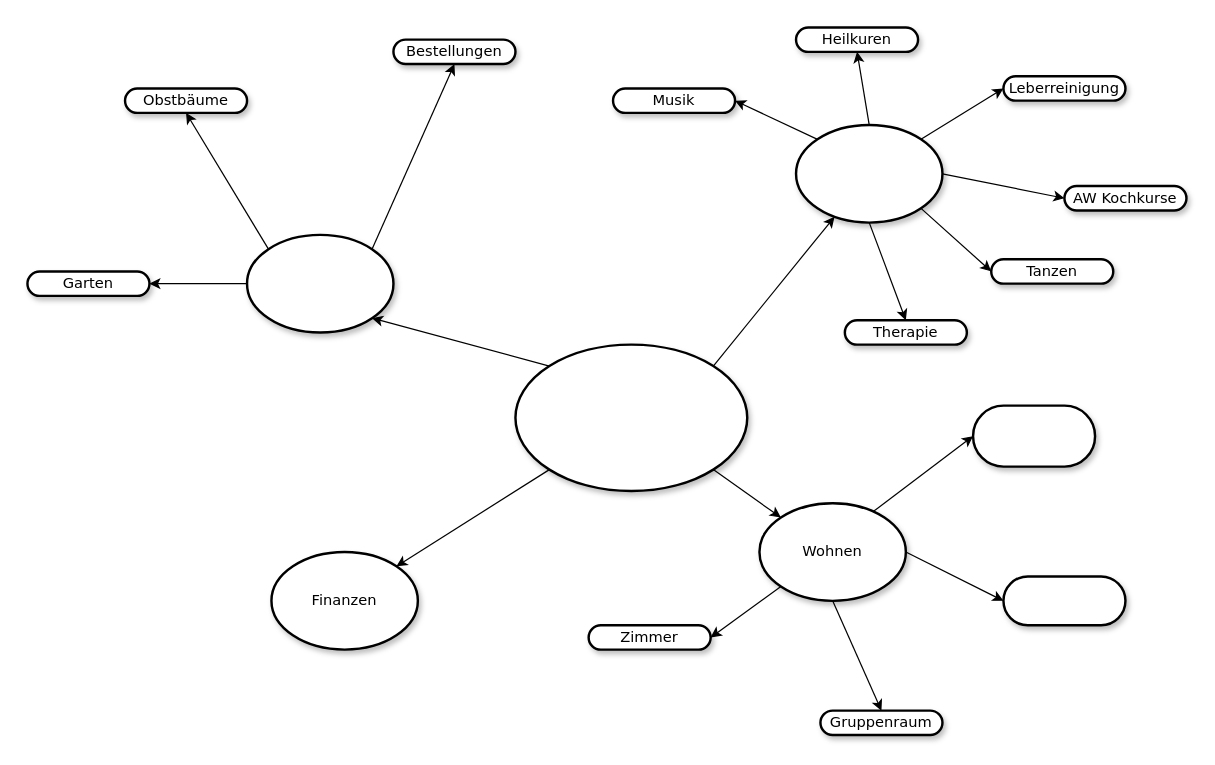
Image size: 1215x765. Some labels were removed from this diagram. Each missing label, with the centre of its shape:
"Gemeinsame Küche" belongs at point 1065,602.
"Haus" belongs at point 632,419.
"Jeder hat eigene Wohnung" belongs at point 1034,437.
"Kurse Workshops" belongs at point 869,175.
"Selbstversorger" belongs at point 320,285.
